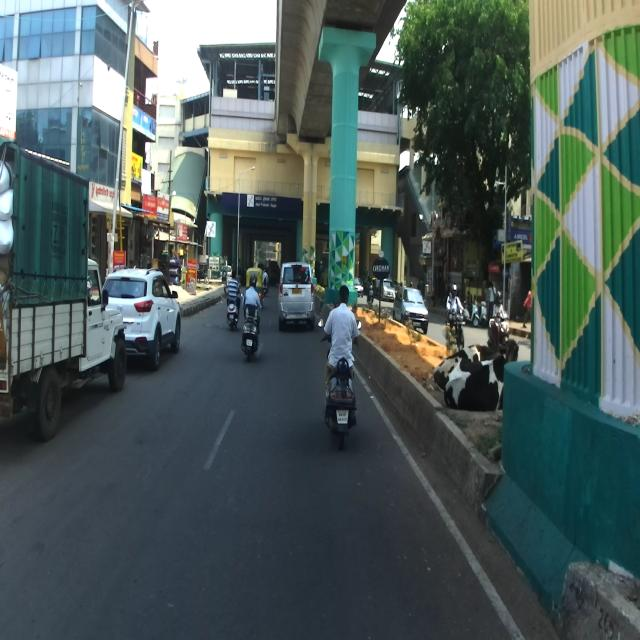car ahead at: (119, 267, 187, 376)
motorcycle ahead at: (321, 354, 364, 450)
truck ahead at: (0, 151, 130, 427)
